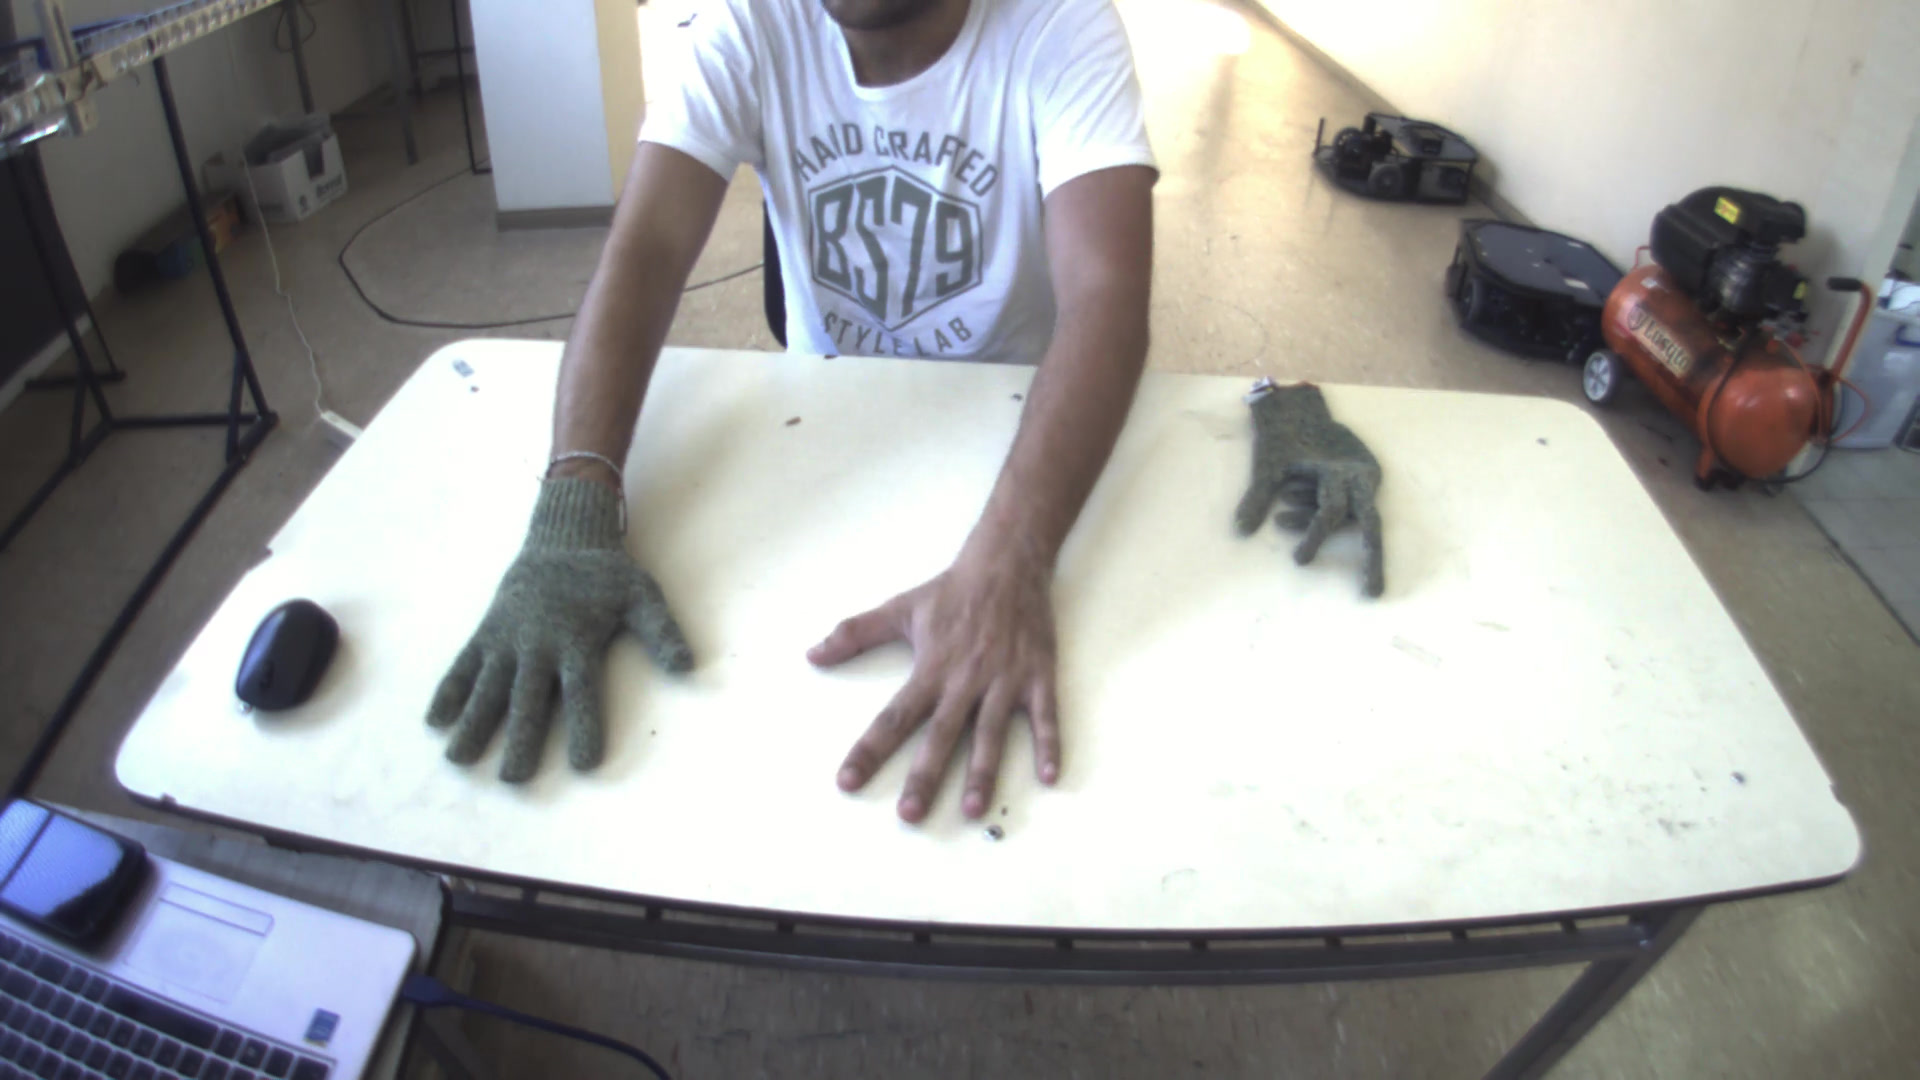hand: (410, 446, 680, 803), (798, 545, 1077, 843)
